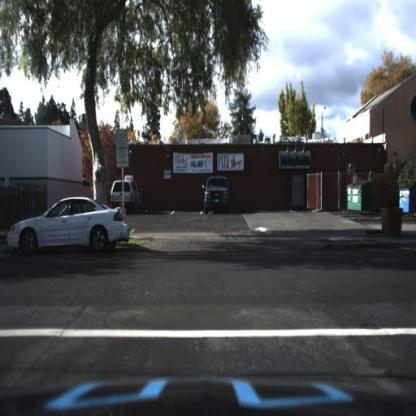car: (5, 192, 134, 263), (203, 175, 233, 216), (110, 179, 141, 211)
